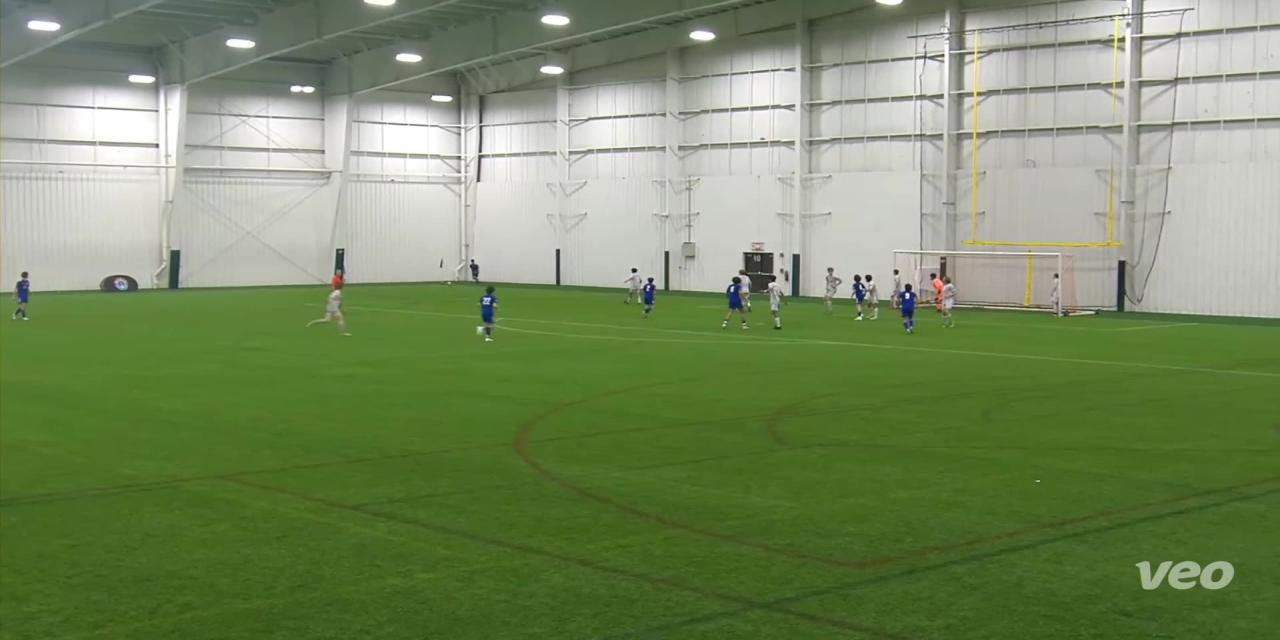goal: (884, 247, 1102, 322)
sports ball: (441, 276, 458, 289)
